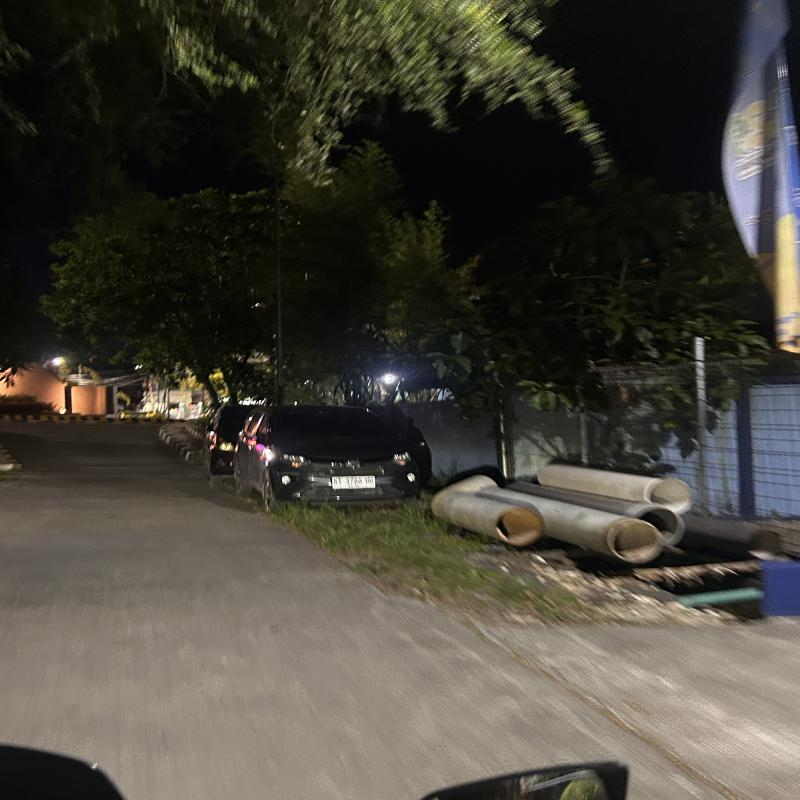license plate on a car: (329, 474, 388, 492)
